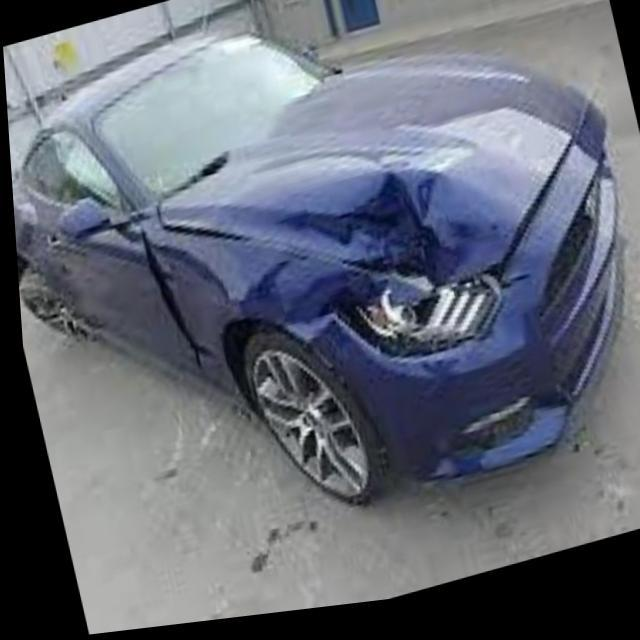dent: (105, 152, 523, 412)
dislocated part: (10, 183, 89, 341)
